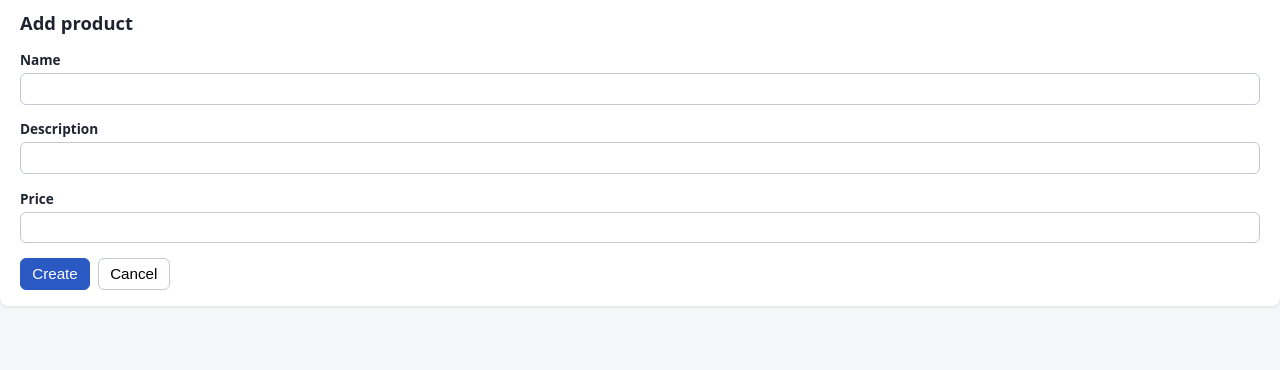
Test case: ProductForm › shows errors and does not submit when required fields are empty
The width and height of the screenshot is (1280, 370).
Click the button "Create" at (55, 274), box [20, 258, 90, 290]
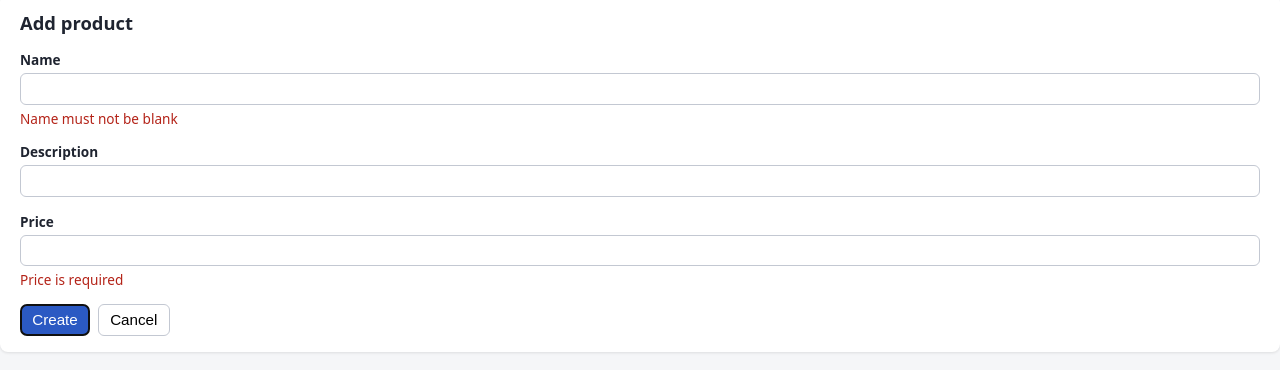
Result: the text "Name must not be blank" is shown at [20, 109, 178, 128]
Result: the text "Price is required" is shown at [20, 270, 123, 289]
